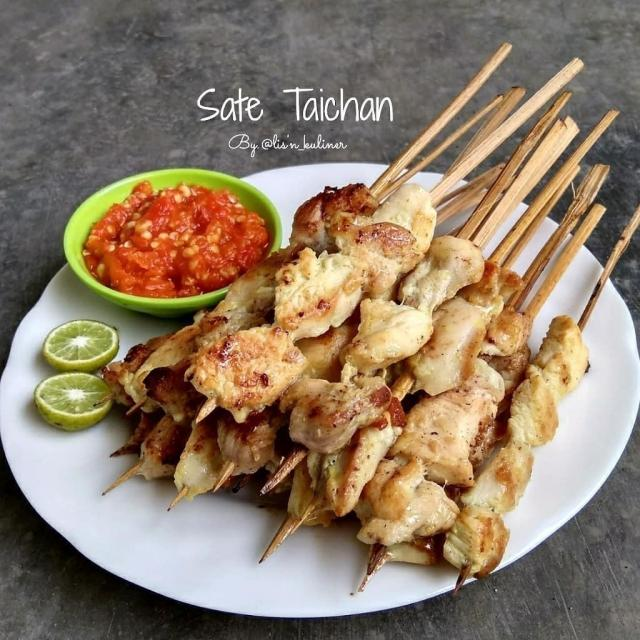Sate: (48, 18, 637, 580)
